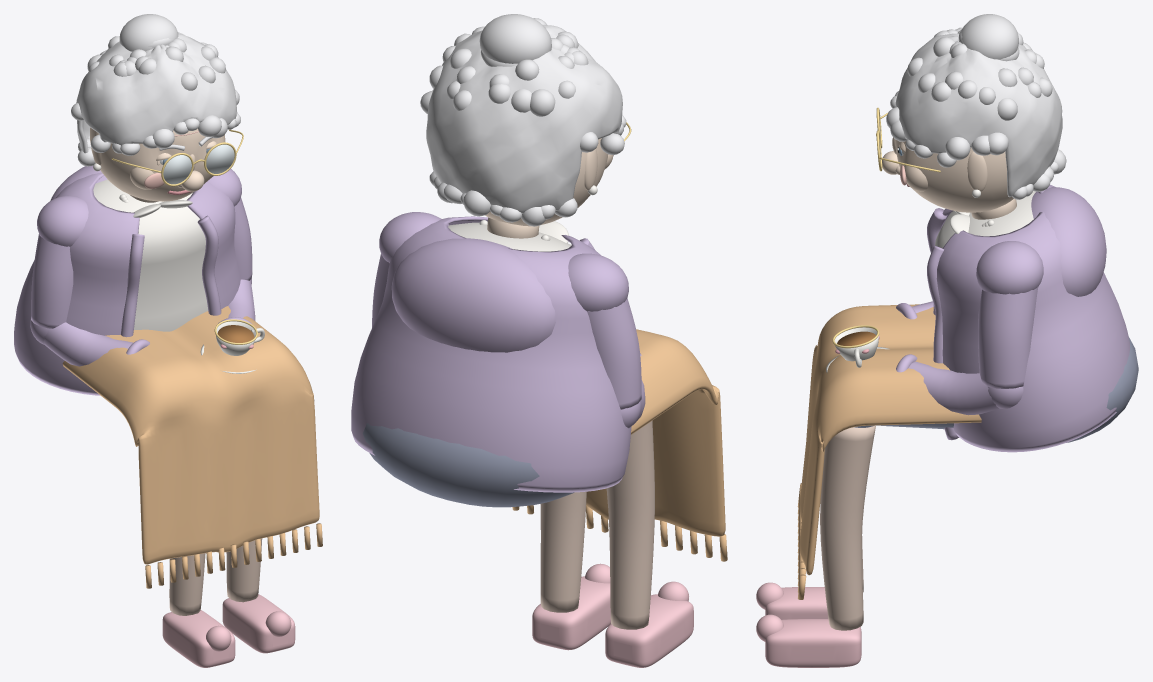
Rendered from grandma.glb.
3 views of the same model, side by side, from view 1: azimuth 30°, elevation 25°; view 2: azimuth 150°, elevation 25°; view 3: azimuth 270°, elevation 25° (orthographic). The views are drawn at different scales.
Parts seen in each view (by area): view 1: LapBlanket, Cardigan, HairCap, Chest, Curls, Face, UpperArm.001, Slipper, Slipper.001, Sleeve.001, Shoulder, Shin (+13 smaller); view 2: Cardigan, HairCap, UpperBack, LapBlanket, Hips, Curls, Shin, Shin.001, Slipper, UpperArm.001, Slipper.001, Bun (+6 smaller); view 3: Cardigan, LapBlanket, HairCap, Shin.001, Curls, UpperArm, UpperBack, Face, Slipper.001, Shoulder.001, Sleeve, Bun (+7 smaller).
Part boxes in pixels (x1,y1,x2,y2): LapBlanket: [62, 306, 319, 564]; Cardigan: [14, 172, 240, 395]; HairCap: [76, 33, 236, 153]; Chest: [93, 179, 208, 331]; Curls: [71, 32, 240, 166]; Face: [90, 127, 225, 201]; UpperArm.001: [31, 234, 73, 328]; Slipper: [162, 610, 235, 667]; Slipper.001: [222, 594, 295, 653]; Sleeve.001: [43, 322, 133, 366]; Shoulder: [37, 195, 88, 246]; Shin: [169, 553, 205, 615]; Cardigan: [351, 216, 631, 492]; HairCap: [426, 24, 622, 213]; UpperBack: [391, 238, 555, 352]; LapBlanket: [586, 329, 725, 536]; Hips: [362, 423, 574, 507]; Curls: [420, 18, 626, 226]; Shin: [606, 420, 654, 629]; Shin.001: [540, 491, 586, 612]; Slipper: [605, 594, 693, 667]; UpperArm.001: [587, 298, 641, 409]; Slipper.001: [532, 576, 610, 650]; Bun: [479, 14, 551, 63]; Cardigan: [936, 184, 1130, 452]; LapBlanket: [799, 304, 981, 575]; HairCap: [895, 33, 1062, 197]; Shin.001: [820, 425, 875, 630]; Curls: [886, 27, 1066, 199]; UpperArm: [978, 287, 1038, 388]; UpperBack: [1031, 187, 1106, 296]; Face: [895, 139, 1013, 212]; Slipper.001: [765, 619, 861, 667]; Shoulder.001: [976, 241, 1043, 294]; Sleeve: [908, 361, 999, 415]; Bun: [959, 14, 1018, 59].
Bounding box in the file's own units: 0.54 × 1.37 × 0.755.
